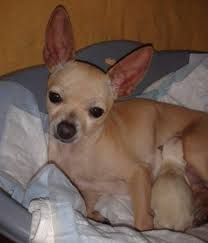chihuahua: (30, 3, 206, 242)
